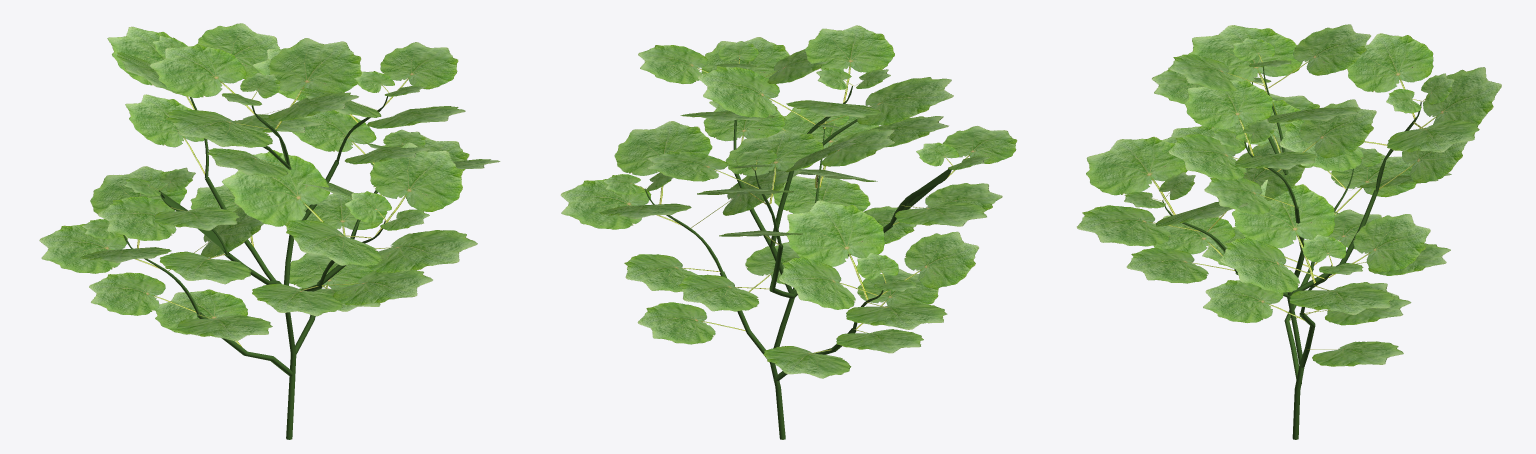
Rendered from abutilon leaf2.fbx.
3 renders of one model, left to right at view 1: azimuth 30°, elevation 25°; view 2: azimuth 150°, elevation 25°; view 3: azimuth 270°, elevation 25°, orthographic. The views are drawn at different scales.
Visible parts, largest first — view 1: Abutilon leaf; view 2: Abutilon leaf; view 3: Abutilon leaf.
Part boxes in pixels (<box>): Abutilon leaf: <box>39,23,500,439</box>; Abutilon leaf: <box>560,25,1017,439</box>; Abutilon leaf: <box>1077,24,1501,439</box>.
Size of the model in its own units: 3 by 2.57 by 2.96.
